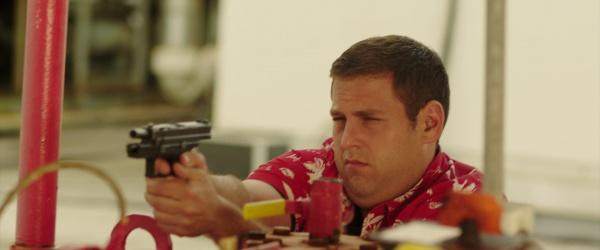Gun: (127, 118, 213, 180)
